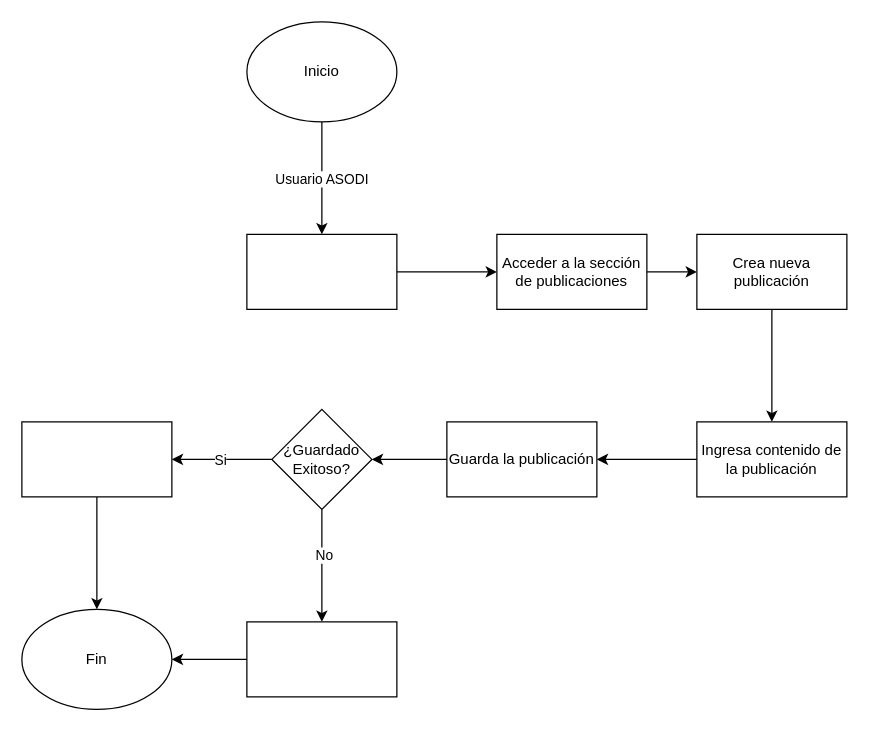
This 869x731 diagram has some shape labels left out. Here are the shapes that lost their labels. From the top down, the centre of each, then its label:
the point at 321,271: Inicio Sesión
the point at 96,459: Mostrar confirmación
the point at 321,659: Mostrar mensaje de error
